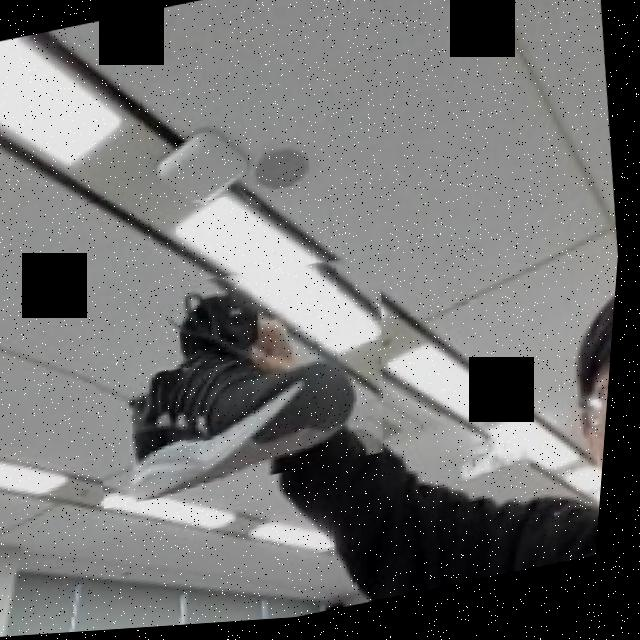shoe: (83, 241, 414, 513)
